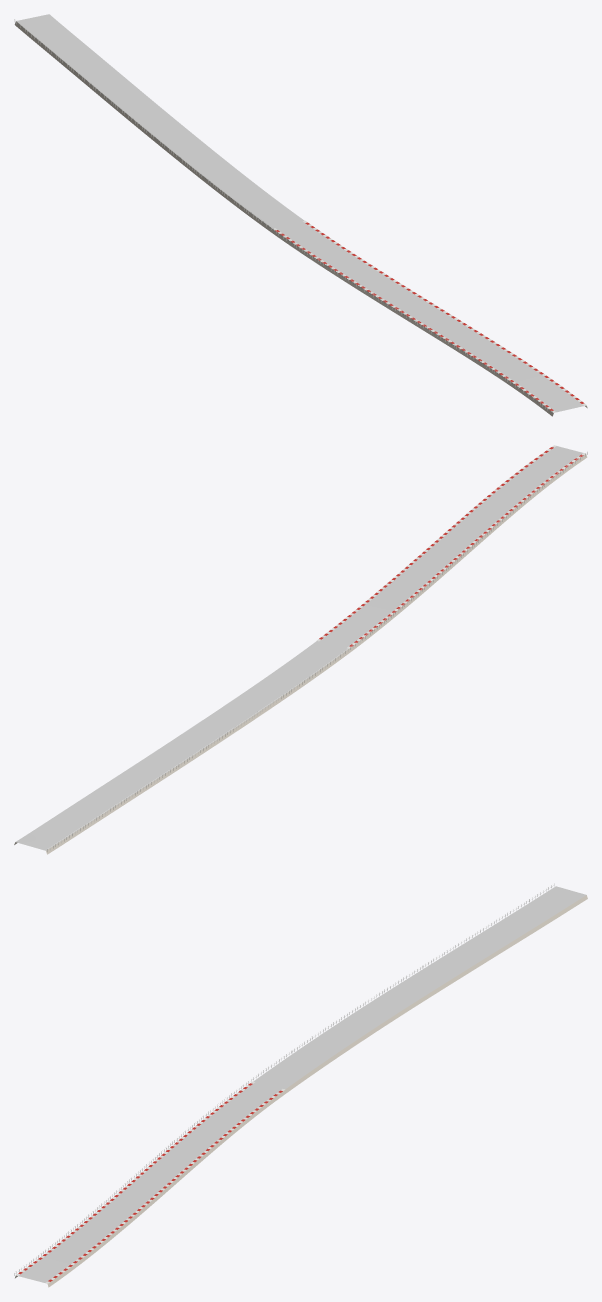
Rendered from SM_JeddahCorniche_Track_01.fbx.
3 renders of one model, top to bottom at view 1: azimuth 30°, elevation 25°; view 2: azimuth 150°, elevation 25°; view 3: azimuth 330°, elevation 25°, orthographic.
Visible parts, largest first — view 1: SM_JeddahCorniche_Track_01; view 2: SM_JeddahCorniche_Track_01; view 3: SM_JeddahCorniche_Track_01.
Part boxes in pixels (x1,y1,x2,y2): SM_JeddahCorniche_Track_01: (14,14,587,416); SM_JeddahCorniche_Track_01: (14,445,587,854); SM_JeddahCorniche_Track_01: (14,883,587,1287).
Bounding box in the file's own units: 2743 × 459 × 43623.
